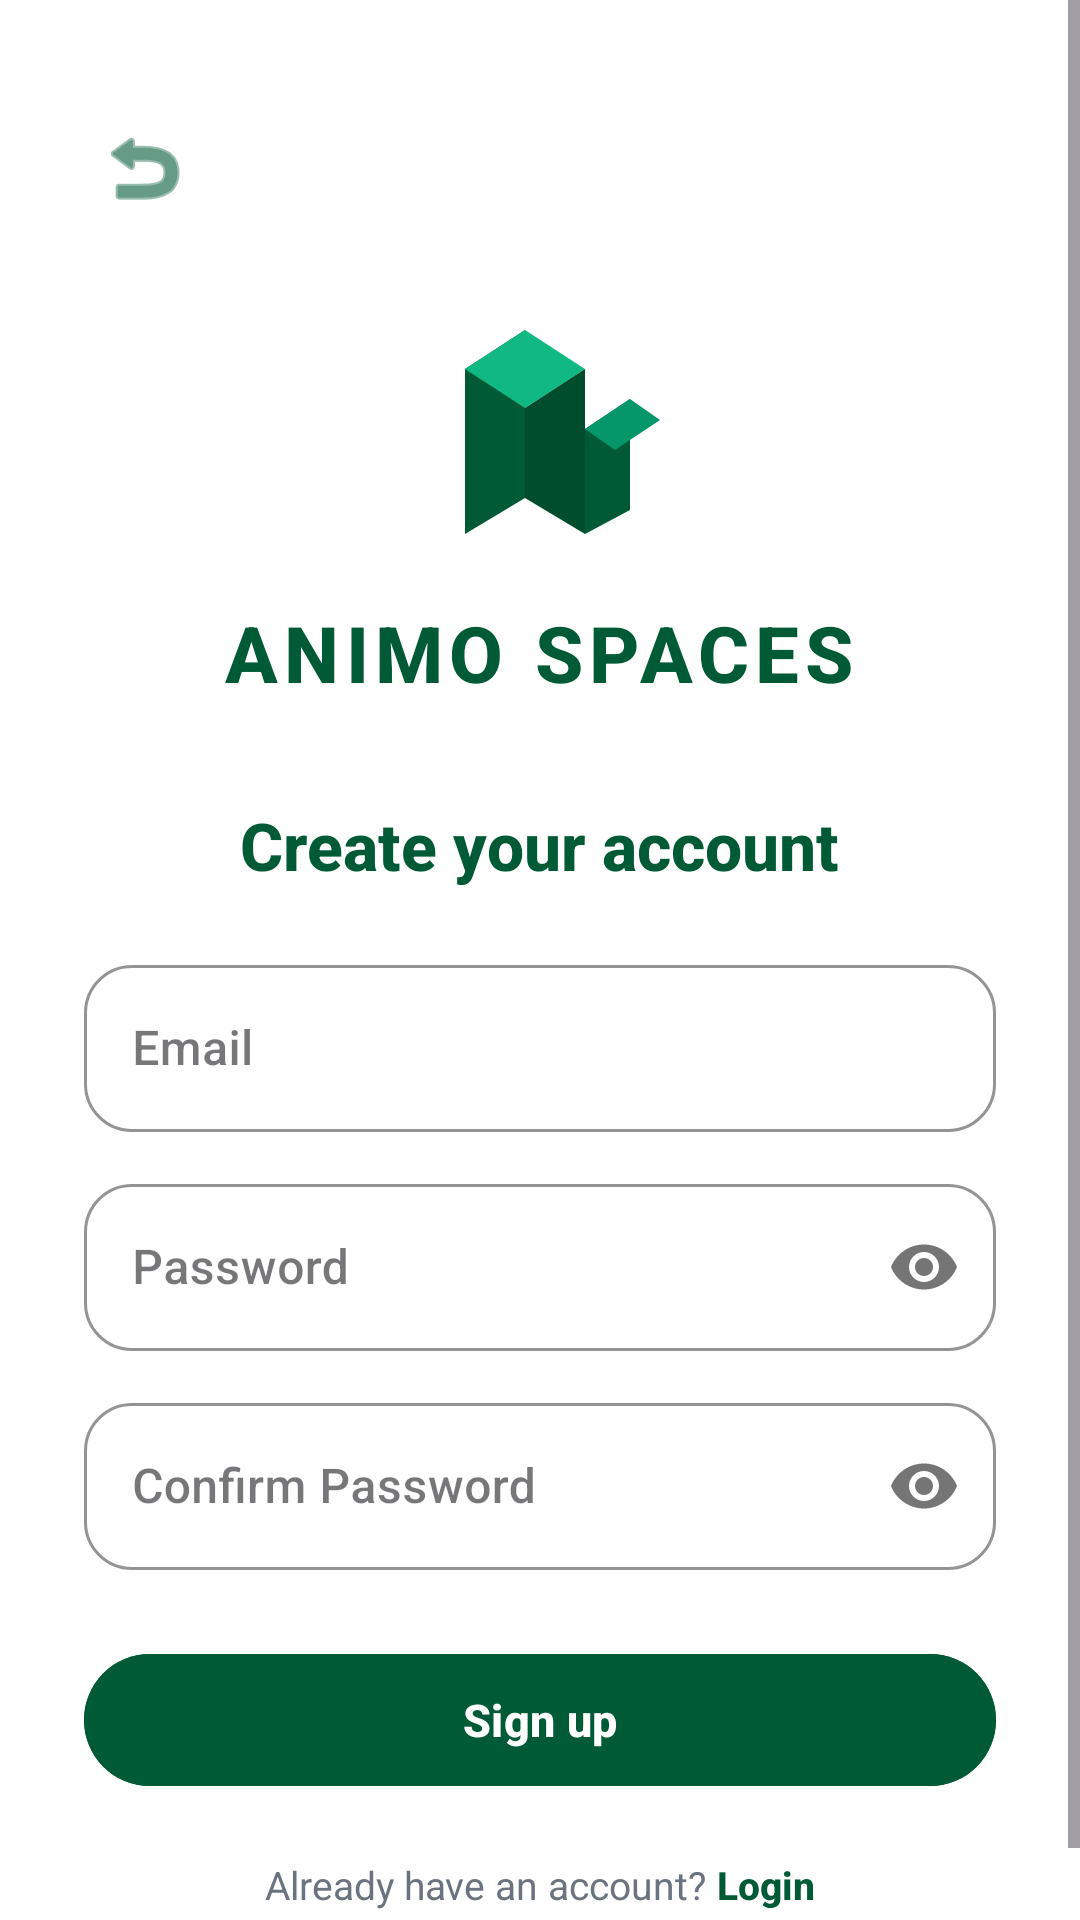

Screen size 1080×1920. Icon name, then its box in pixels as (x1, y1, x2, y2):
Back: (111, 137, 180, 200)
